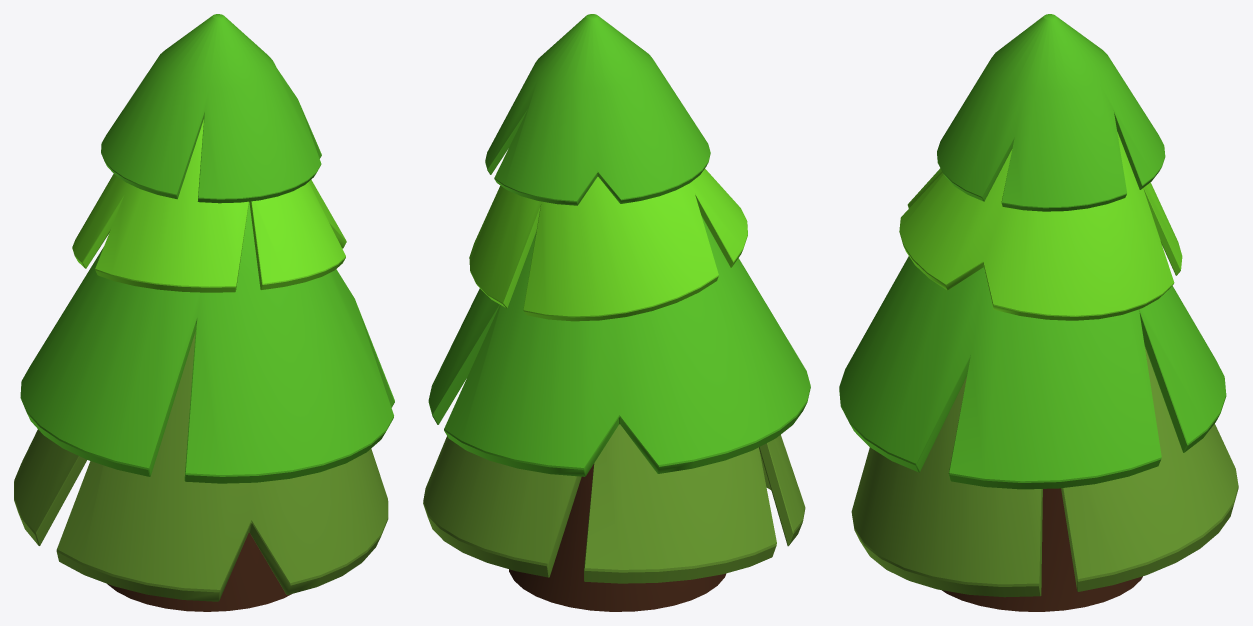
Rendered from tree2.fbx.
The picture shows the model from 3 angles, left to right: view 1: azimuth 30°, elevation 25°; view 2: azimuth 150°, elevation 25°; view 3: azimuth 270°, elevation 25°; orthographic projection. The views are drawn at different scales.
Parts seen in each view (by area): view 1: Cylinder.006, Cylinder.005, Cylinder.010, Cylinder.007, Cylinder.004; view 2: Cylinder.006, Cylinder.005, Cylinder.007, Cylinder.010, Cylinder.004; view 3: Cylinder.006, Cylinder.005, Cylinder.010, Cylinder.007, Cylinder.004.
Boxes of the visible parts, left/top/right/bottom form: Cylinder.006: left=20, top=202, right=394, bottom=483; Cylinder.005: left=14, top=332, right=388, bottom=601; Cylinder.010: left=101, top=14, right=321, bottom=203; Cylinder.007: left=72, top=119, right=346, bottom=292; Cylinder.004: left=107, top=532, right=291, bottom=611; Cylinder.006: left=428, top=216, right=810, bottom=476; Cylinder.005: left=423, top=424, right=805, bottom=583; Cylinder.007: left=469, top=169, right=747, bottom=321; Cylinder.010: left=485, top=14, right=710, bottom=205; Cylinder.004: left=509, top=464, right=726, bottom=611; Cylinder.006: left=839, top=256, right=1226, bottom=489; Cylinder.005: left=851, top=346, right=1238, bottom=597; Cylinder.010: left=937, top=14, right=1165, bottom=211; Cylinder.007: left=899, top=132, right=1182, bottom=320; Cylinder.004: left=942, top=488, right=1142, bottom=611.
Bounding box in the file's own units: 668 × 1060 × 688.
